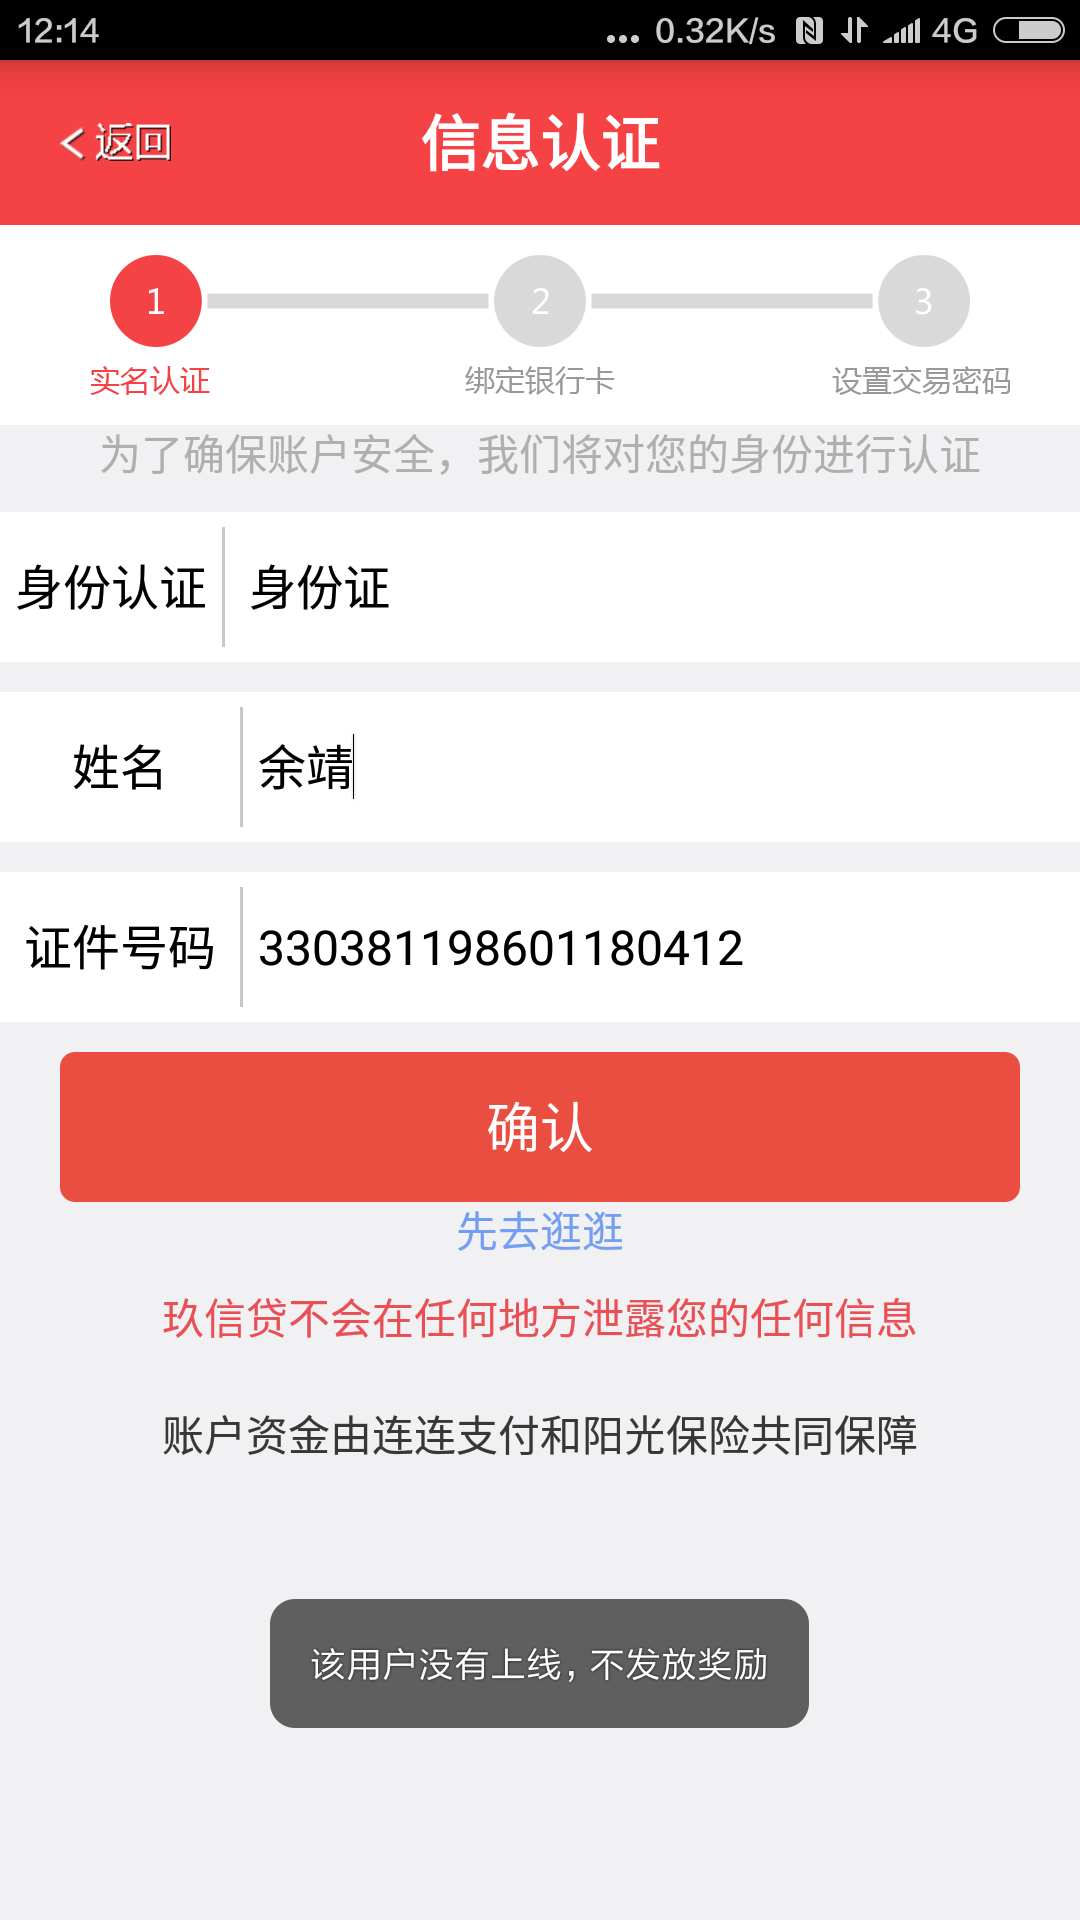alert: (257, 1580, 818, 1737)
button: (44, 1031, 1033, 1207)
